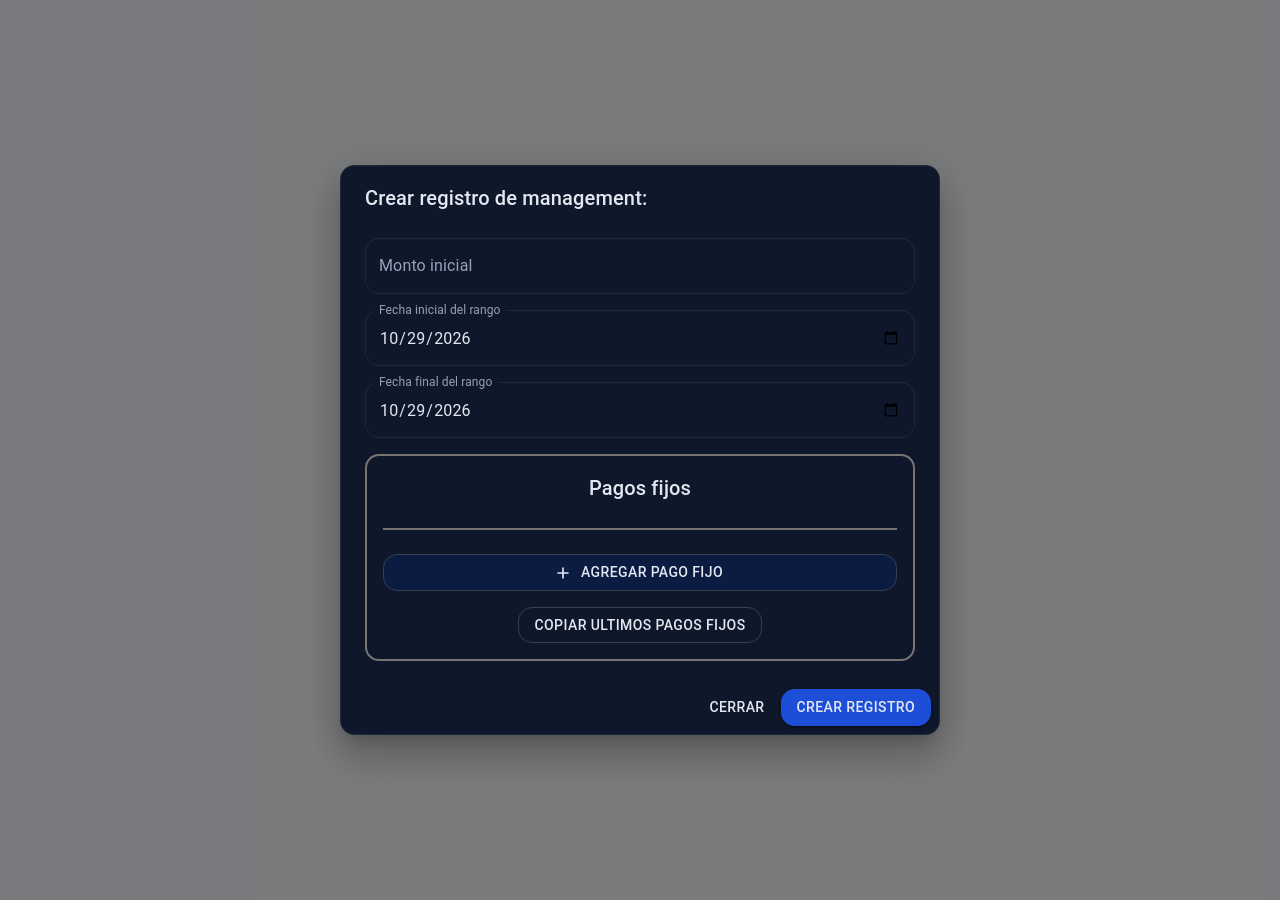
Test: CreateManagementModal › avisa y conserva lo escrito cuando el ultimo registro no tiene pagos fijos
The width and height of the screenshot is (1280, 900).
Click the button "Agregar pago fijo" at (640, 573), box [383,554,897,591]
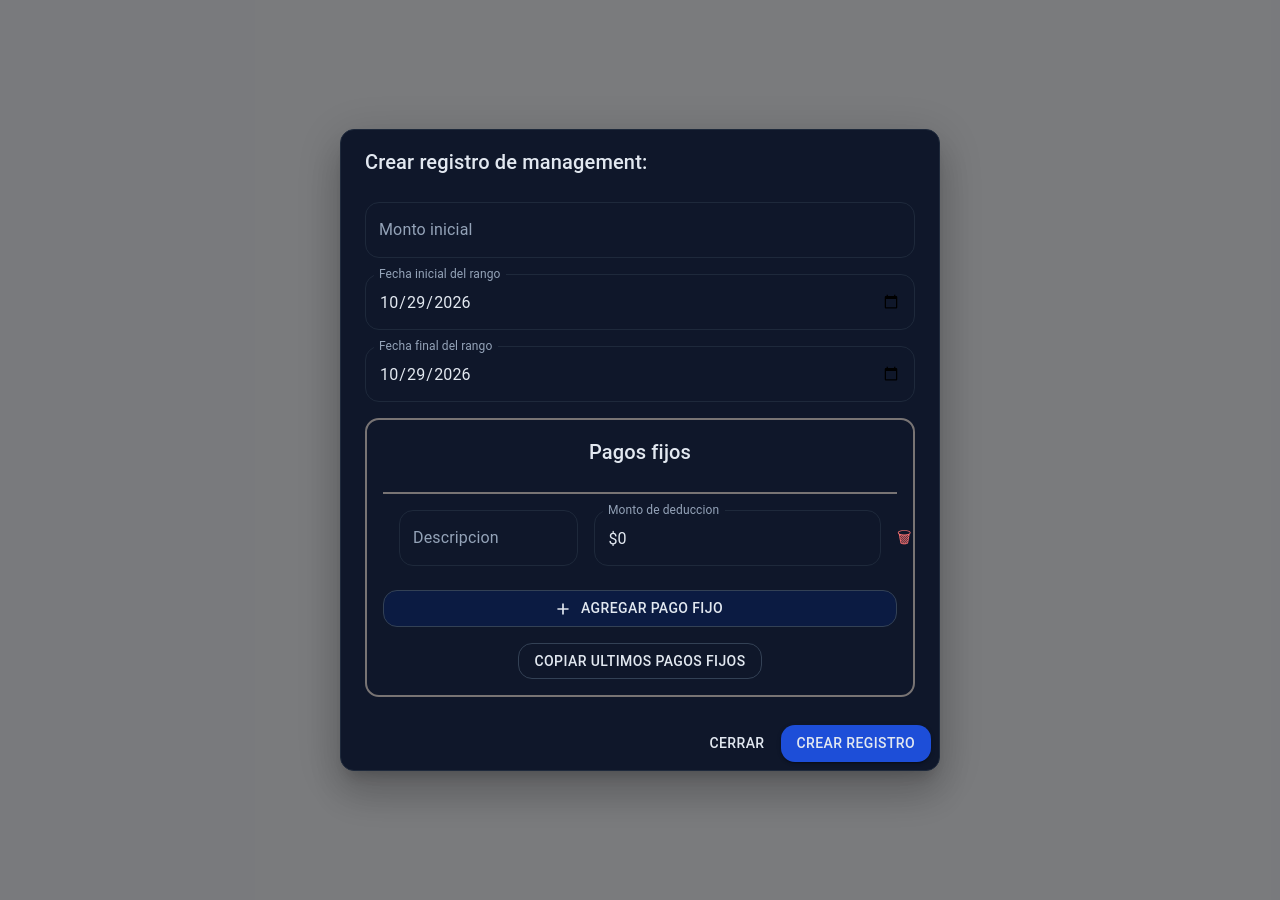
Type "Manual" into the field labelled "Descripcion" at (489, 538), box [399,510,578,566]
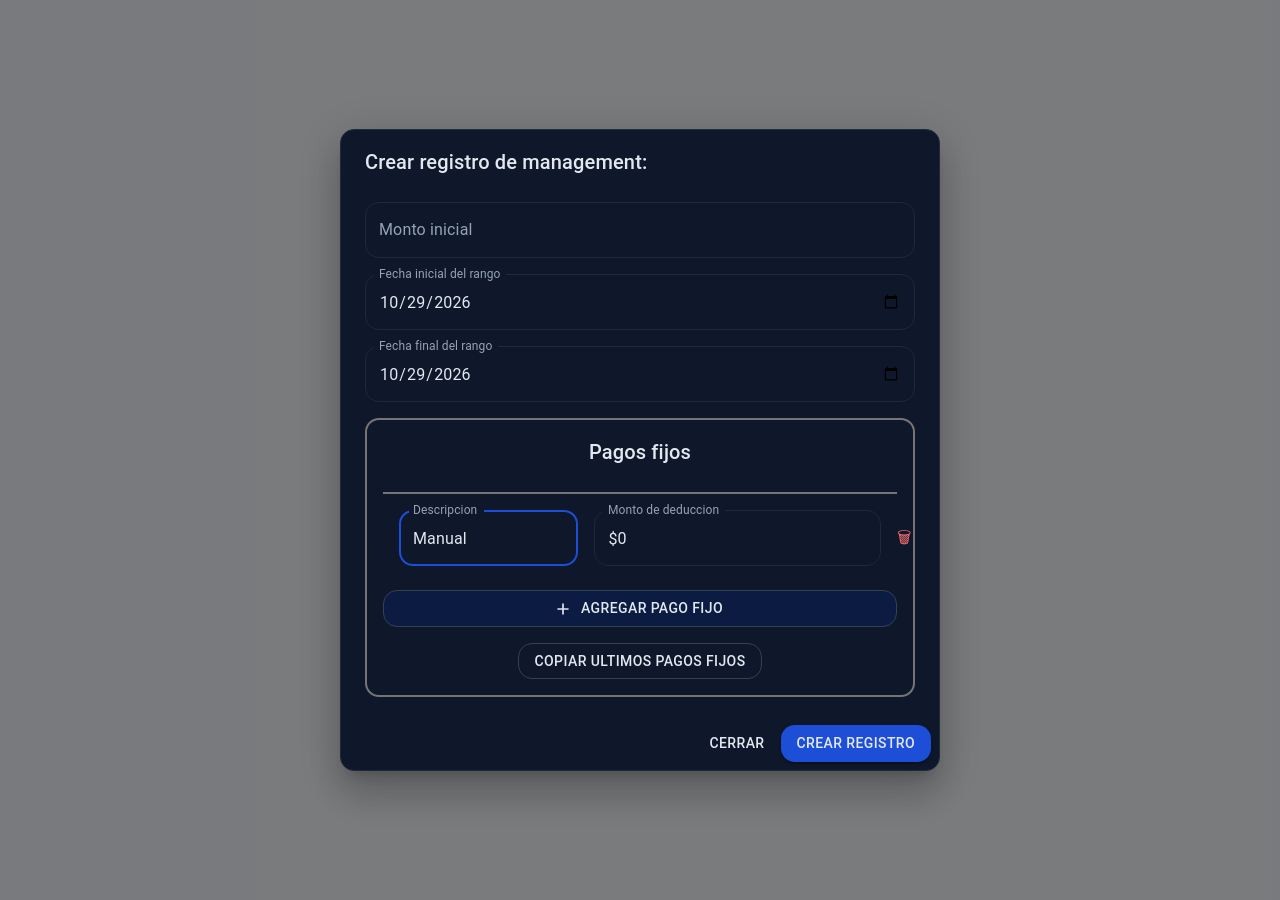
Click the button "Copiar ultimos pagos fijos" at (640, 661), box [518,643,762,679]
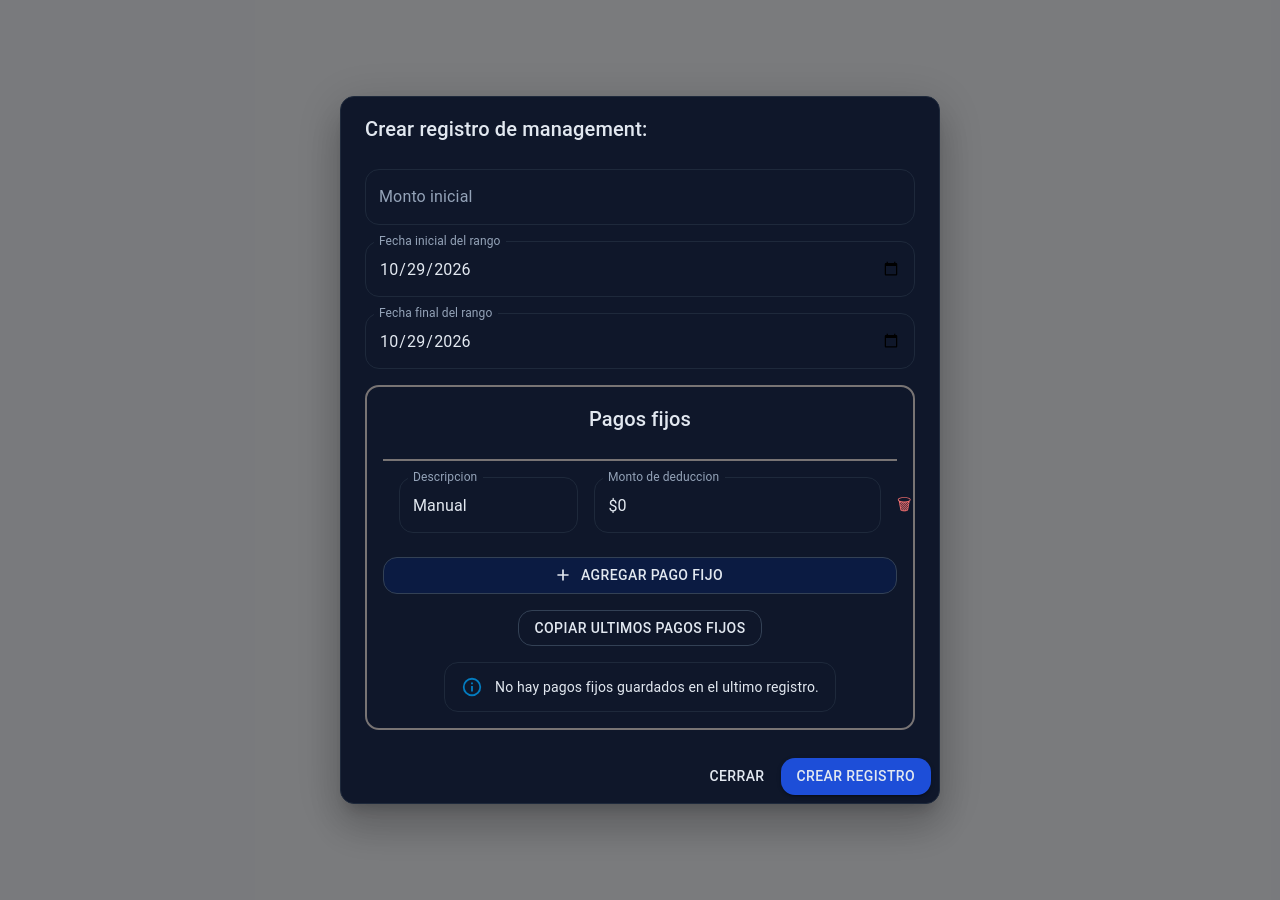
Expected: the text "No hay pagos fijos guardados en el ultimo registro." is shown, [495,679,819,695]
